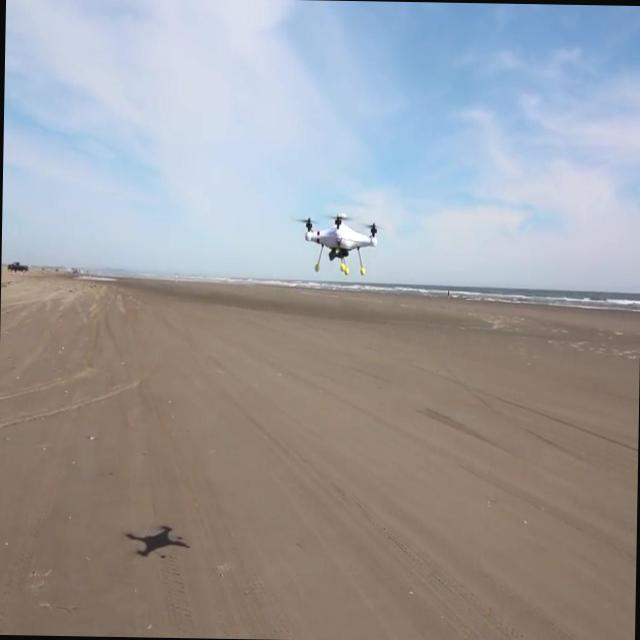drone: (298, 207, 382, 283)
